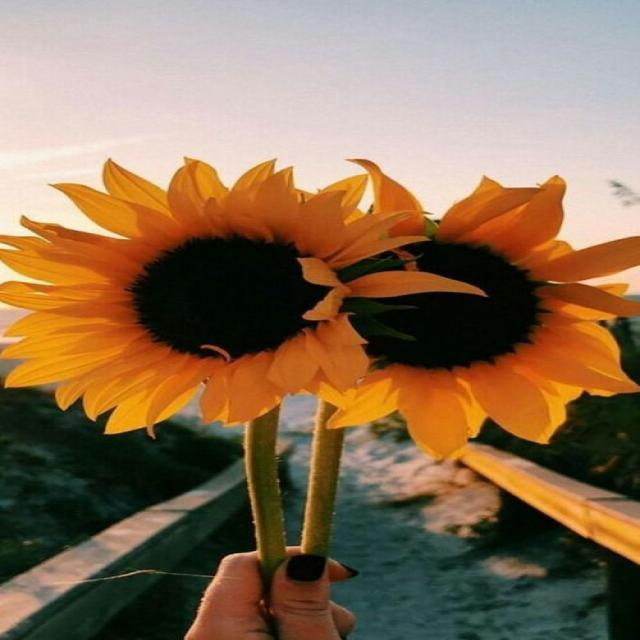sunflower: (0, 154, 483, 440), (303, 157, 639, 460)
